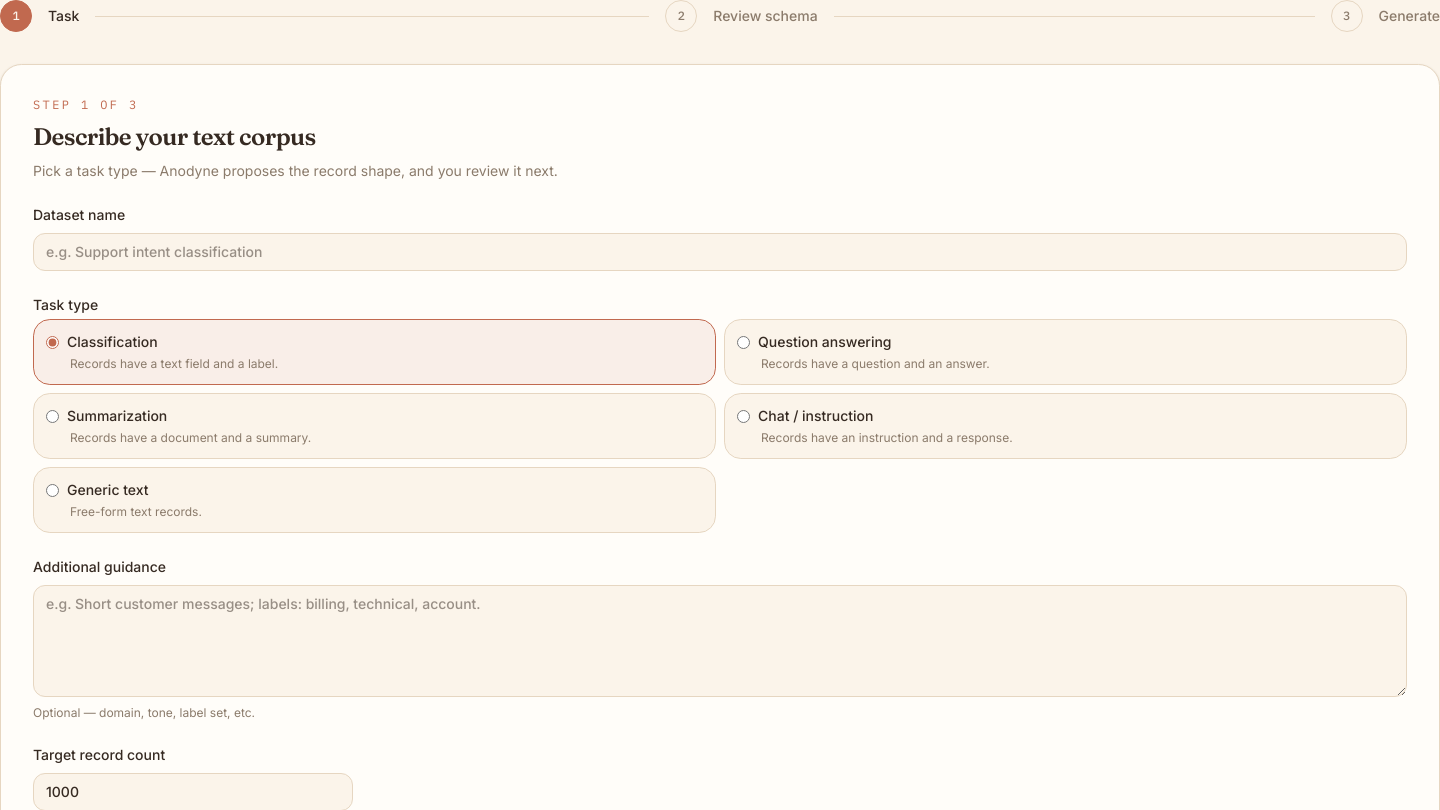
Scenario: text corpus flow › creates a text dataset seeded by the chosen task type
This screenshot has width=1440, height=810.
Type "Intents" into the field labelled "Dataset name" at point(720, 252), box [33, 233, 1407, 271]
(page scrolled)
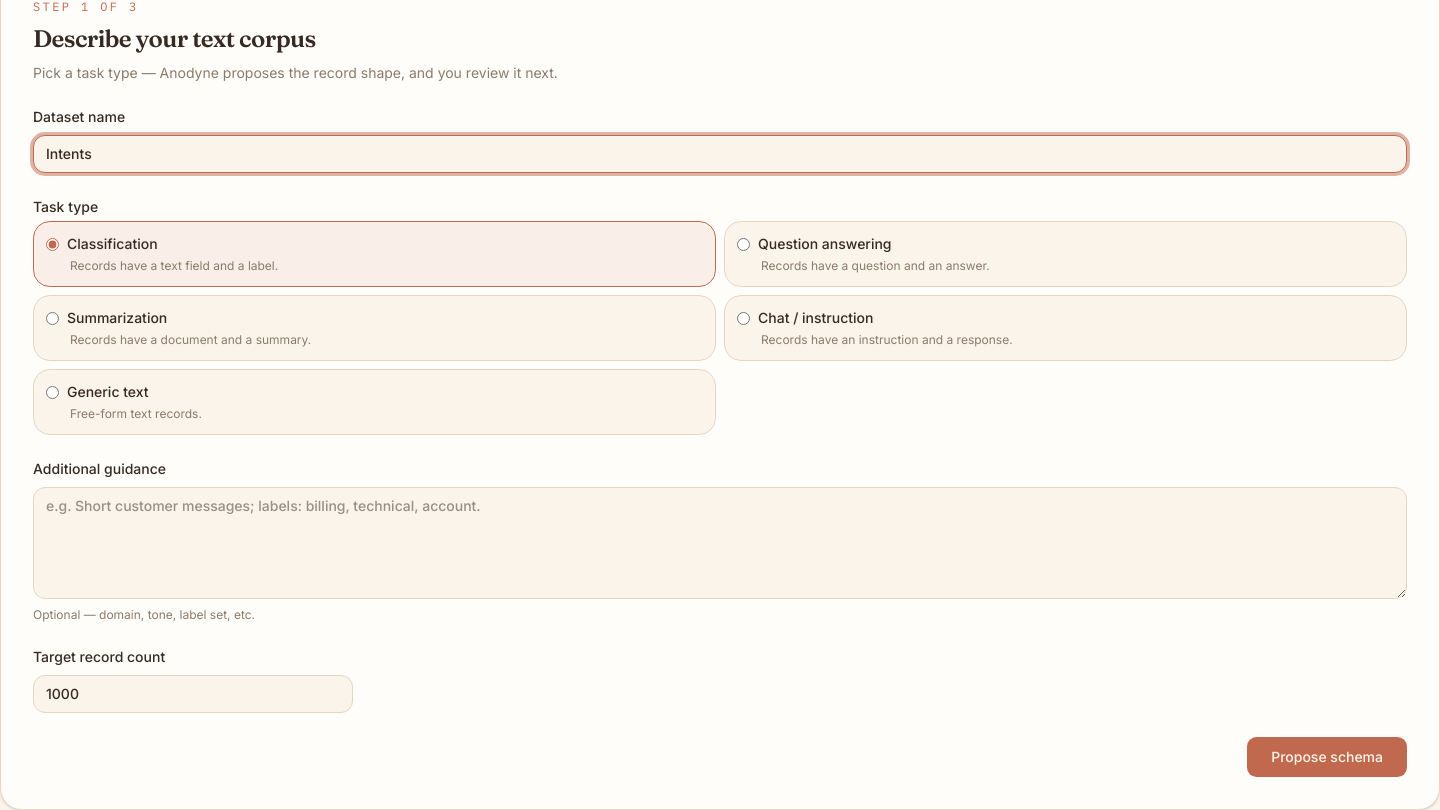
Click the button "Propose schema" at point(1327, 757), box [1247, 737, 1407, 777]
(page scrolled)
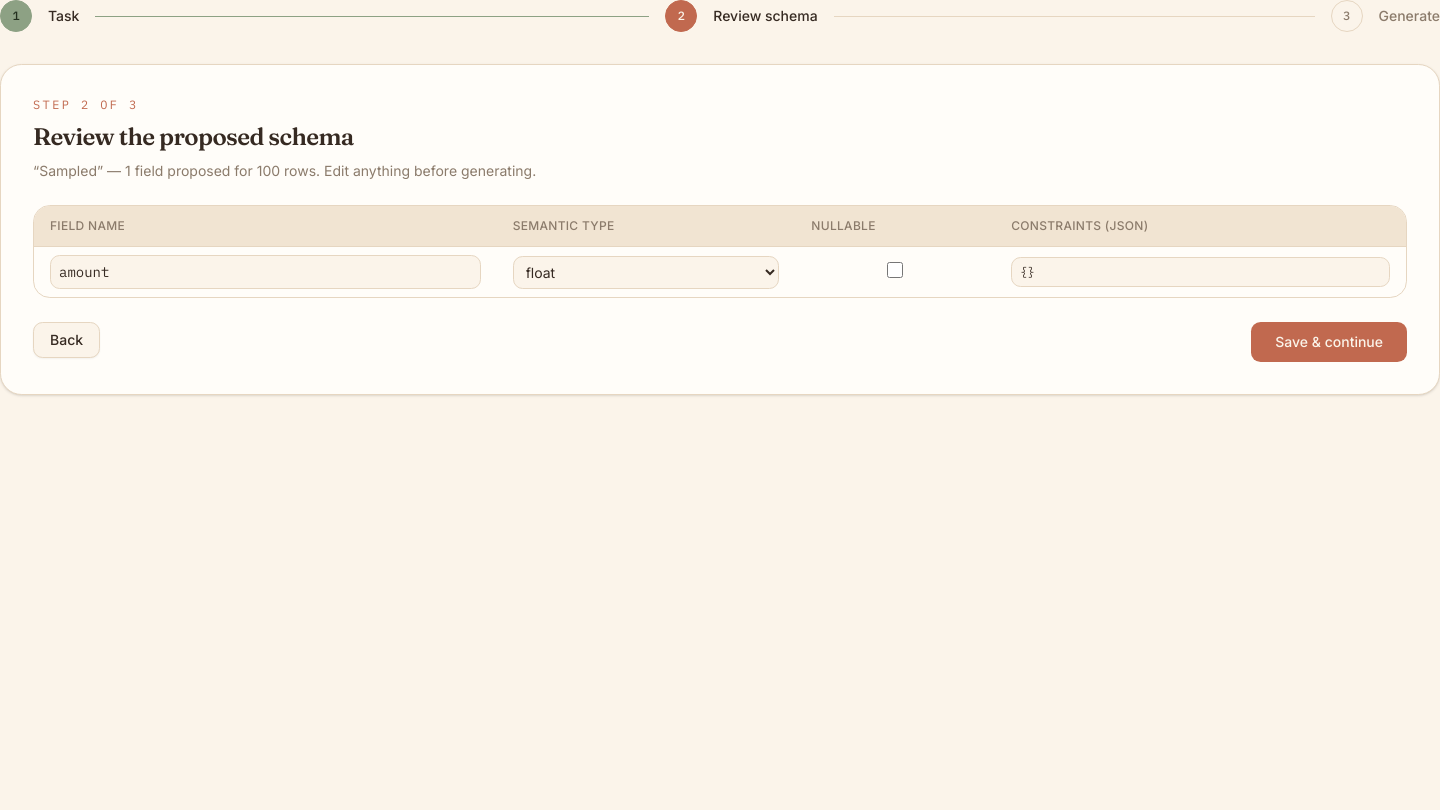
expect the heading "Review the proposed schema" is shown: met, box [33, 122, 354, 151]
